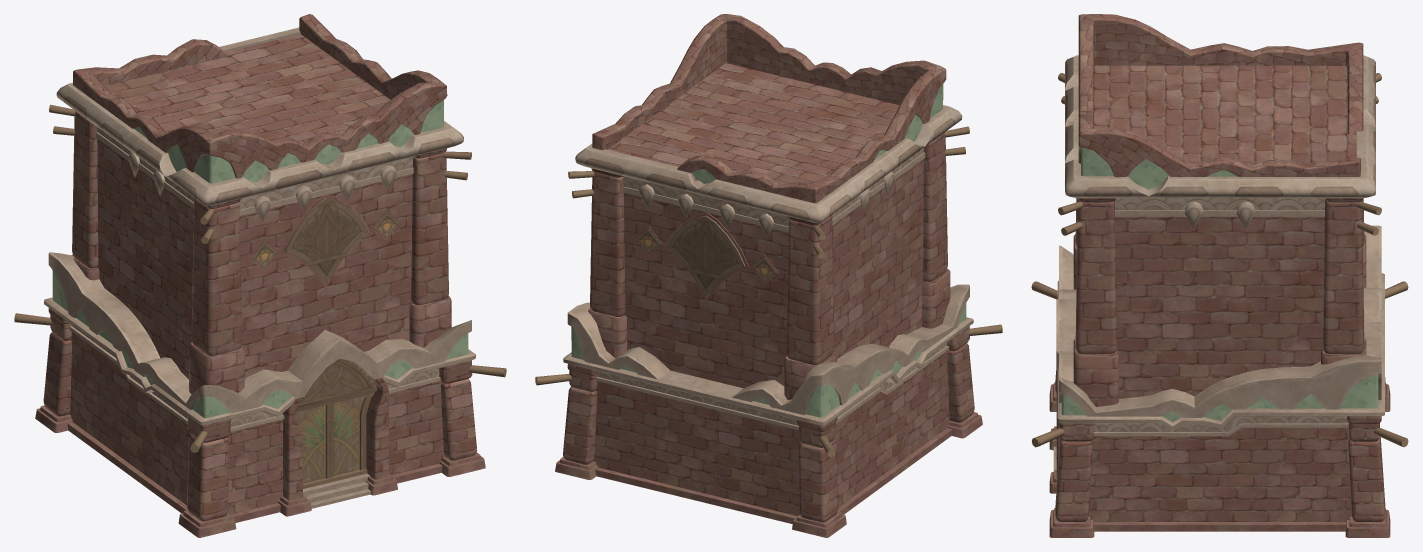
The model's file is Homeworld_Exterior_Xm_Build_Arvillage_01_Lod0.fbx.
The picture shows the model from 3 angles, left to right: view 1: azimuth 30°, elevation 25°; view 2: azimuth 150°, elevation 25°; view 3: azimuth 270°, elevation 25°; orthographic projection. The views are drawn at different scales.
Visible parts, largest first — view 1: Area_Xm_Build_ARC_House_A_01_Lod0; view 2: Area_Xm_Build_ARC_House_A_01_Lod0; view 3: Area_Xm_Build_ARC_House_A_01_Lod0.
Part boxes in pixels (x1,y1,x2,y2): Area_Xm_Build_ARC_House_A_01_Lod0: (14, 14, 506, 537); Area_Xm_Build_ARC_House_A_01_Lod0: (535, 14, 1002, 537); Area_Xm_Build_ARC_House_A_01_Lod0: (1031, 14, 1408, 537).
Size of what is drawn, in the model's own units: 11.73 by 13.52 by 11.69.
